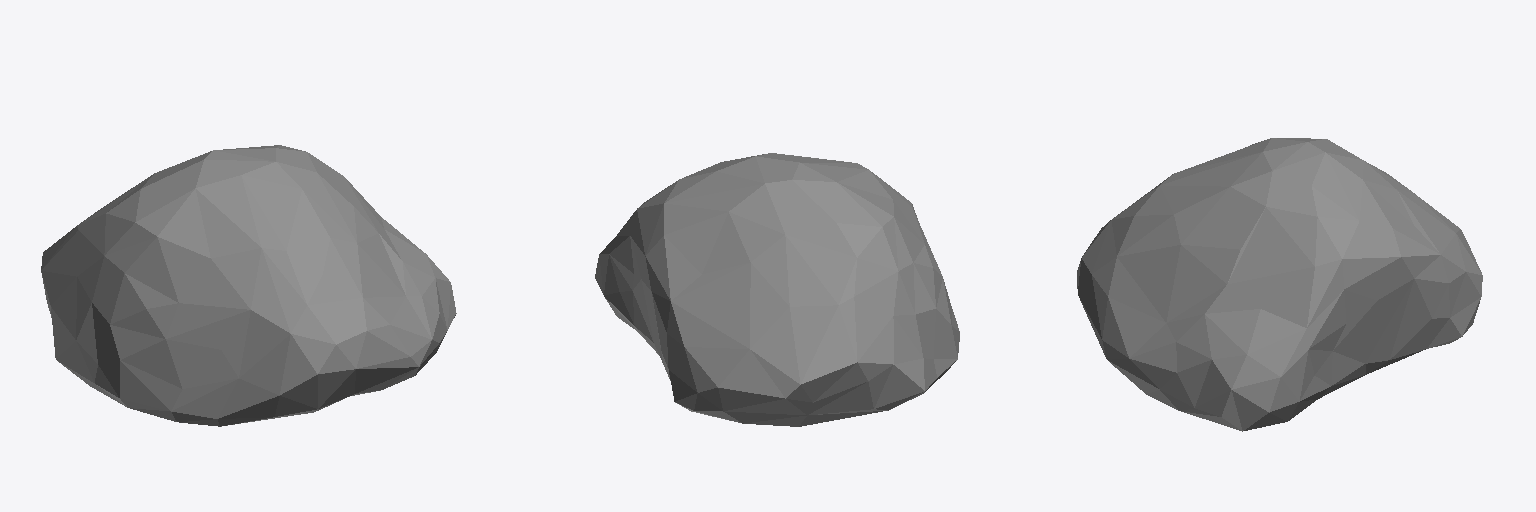
Rendered from Rock.obj.
3 views of the same model, side by side, from view 1: azimuth 30°, elevation 25°; view 2: azimuth 150°, elevation 25°; view 3: azimuth 270°, elevation 25° (orthographic).
Parts seen in each view (by area): view 1: Stone5ok17.001; view 2: Stone5ok17.001; view 3: Stone5ok17.001.
Boxes of the visible parts, <box> form: Stone5ok17.001: <box>41,145,456,426</box>; Stone5ok17.001: <box>595,153,959,426</box>; Stone5ok17.001: <box>1077,138,1482,431</box>.
Size of the model in its own units: 1421 by 727 by 1397.